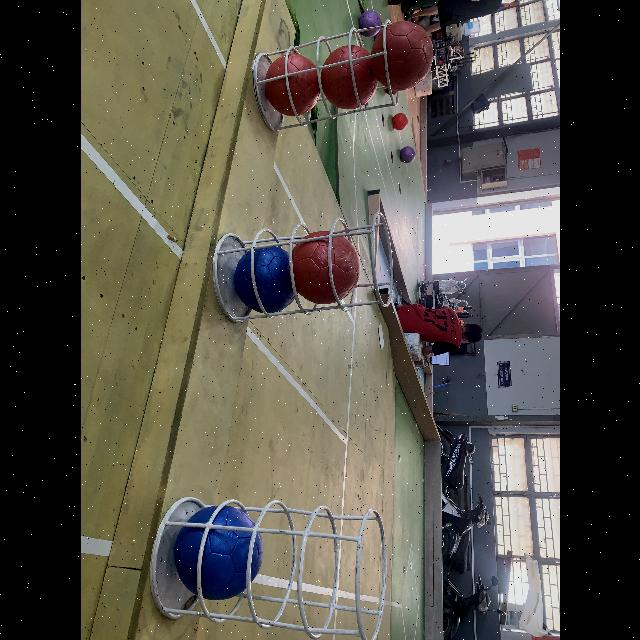B: (172, 505, 262, 599), (232, 247, 296, 316)
R: (288, 230, 359, 304), (370, 24, 434, 90), (318, 45, 378, 109), (264, 54, 322, 118)
